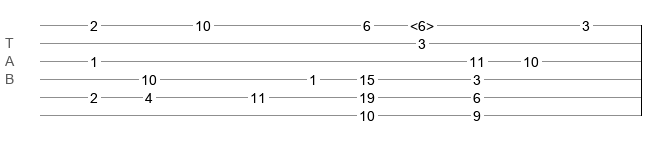1: (90, 54, 98, 64), (309, 72, 317, 82)
10: (141, 72, 157, 82), (195, 18, 211, 28), (359, 108, 375, 118), (523, 54, 539, 64)
11: (250, 90, 266, 100), (469, 54, 485, 64)
15: (359, 72, 375, 82)
19: (359, 90, 375, 100)
2: (90, 18, 98, 28), (90, 90, 98, 100)
3: (418, 36, 426, 46), (473, 72, 481, 82), (582, 18, 590, 28)
4: (145, 90, 153, 100)
6: (363, 18, 371, 28), (473, 90, 481, 100)
9: (473, 108, 481, 118)
harmonic: (410, 18, 434, 28)
